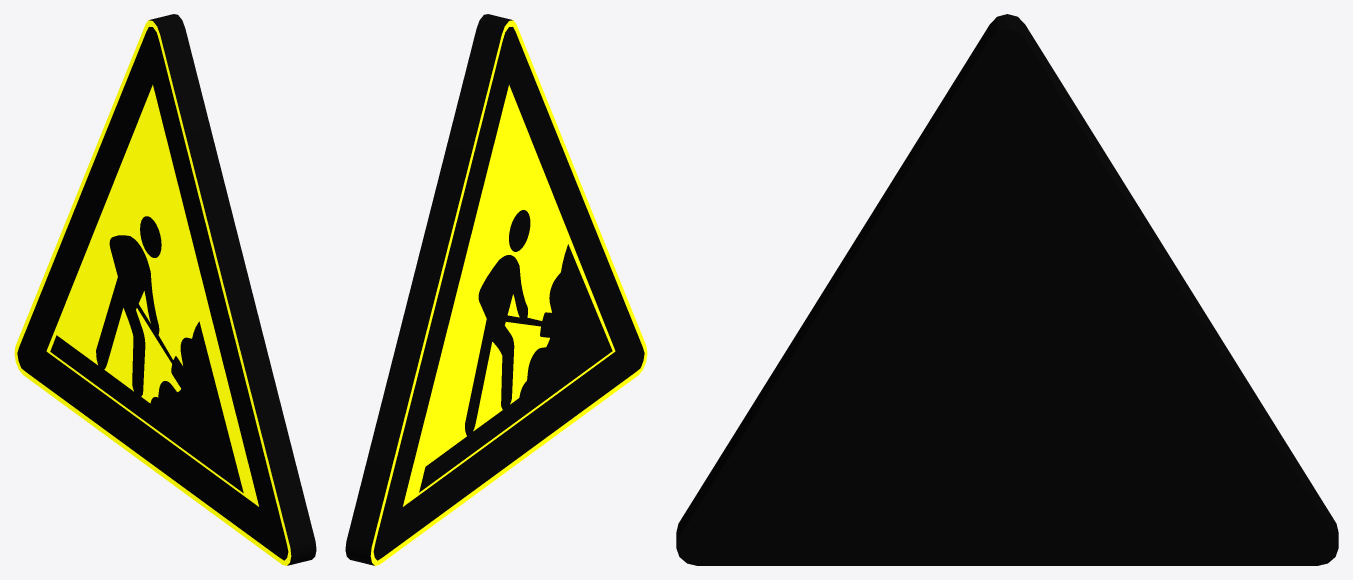
The model's file is Construction_Mark.glb.
3 renders of one model, left to right at view 1: azimuth 30°, elevation 25°; view 2: azimuth 150°, elevation 25°; view 3: azimuth 270°, elevation 25°, orthographic. The views are drawn at different scales.
Visible parts, largest first — view 1: Construction_Mark; view 2: Construction_Mark; view 3: Construction_Mark.
Part boxes in pixels (box(x1,y1,x2,y2)): Construction_Mark: box(14, 14, 316, 565); Construction_Mark: box(345, 14, 647, 565); Construction_Mark: box(676, 14, 1338, 565).
Bounding box in the file's own units: 0.075 × 1.02 × 1.14.
